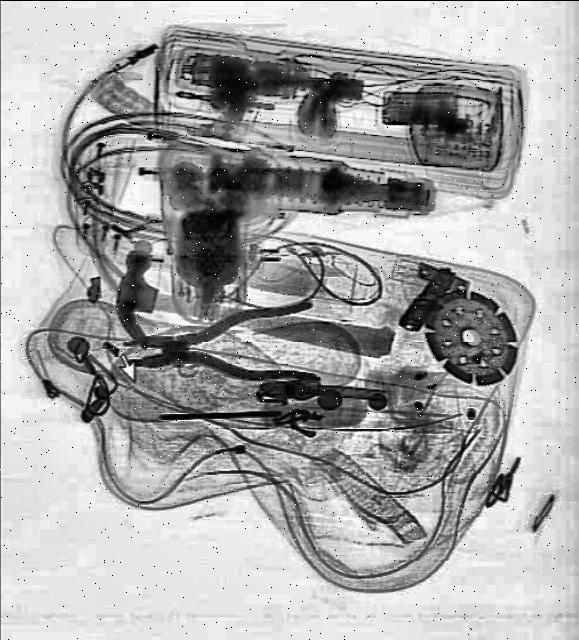Pliers: (122, 304, 322, 394)
